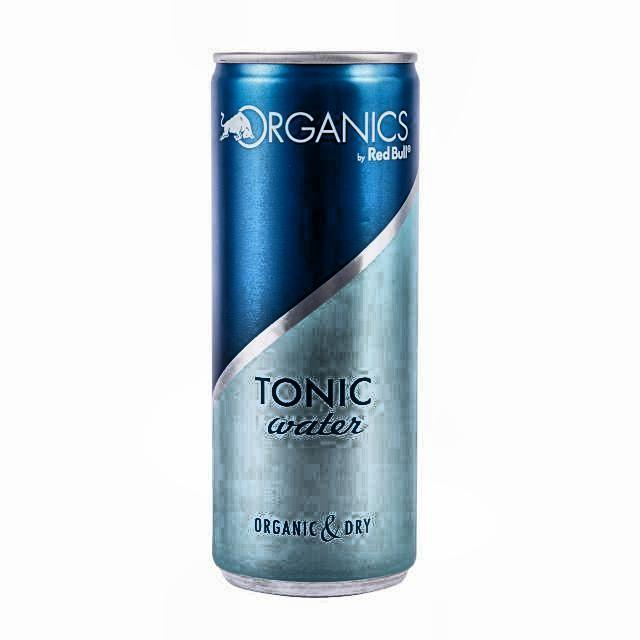metal: (209, 50, 423, 602)
